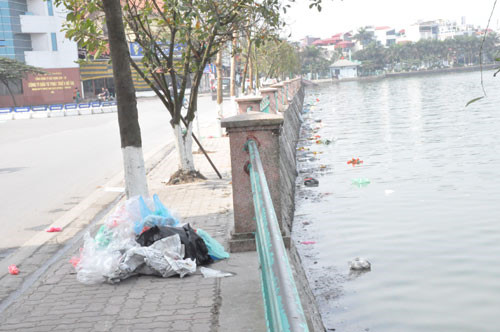plastic bag: (74, 193, 234, 284), (347, 256, 372, 272), (302, 175, 320, 187)
